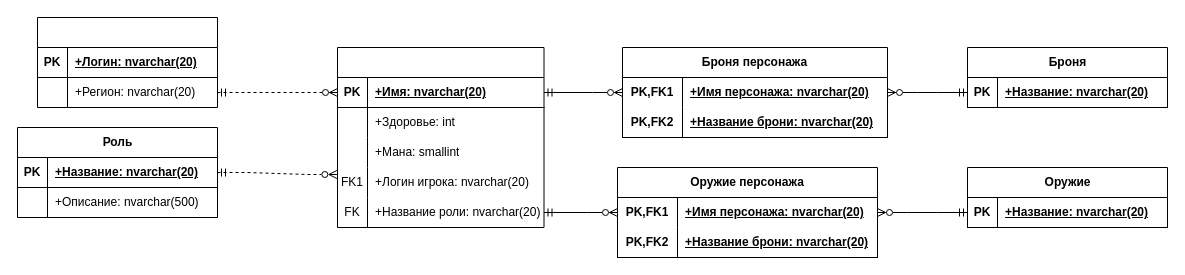
Image size: 1185x275. Some labels were removed from this diagram. Each missing label, with the box of its shape:
Игрок: (36, 16, 218, 108)
Персонаж: (336, 46, 544, 228)
